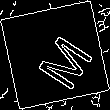M_NW: (21, 22, 89, 88)
